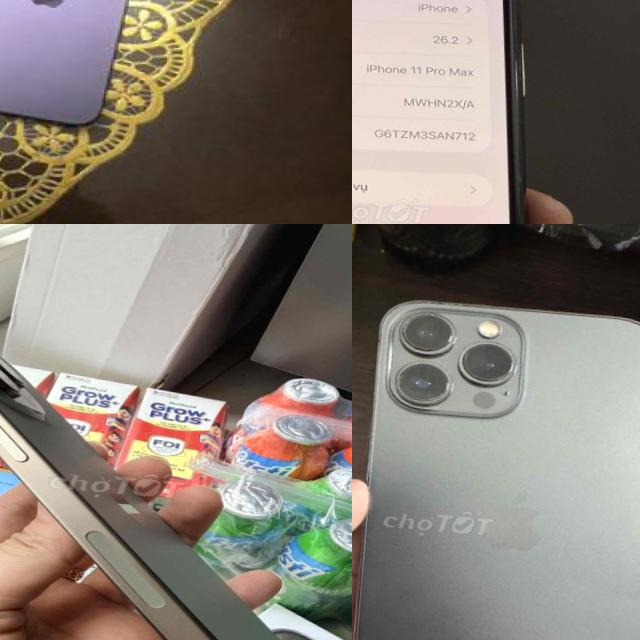gen_11: (352, 0, 592, 224)
gen_12_13: (352, 288, 640, 640)
gen_14: (0, 0, 158, 140)
gen_15: (0, 290, 352, 640)
